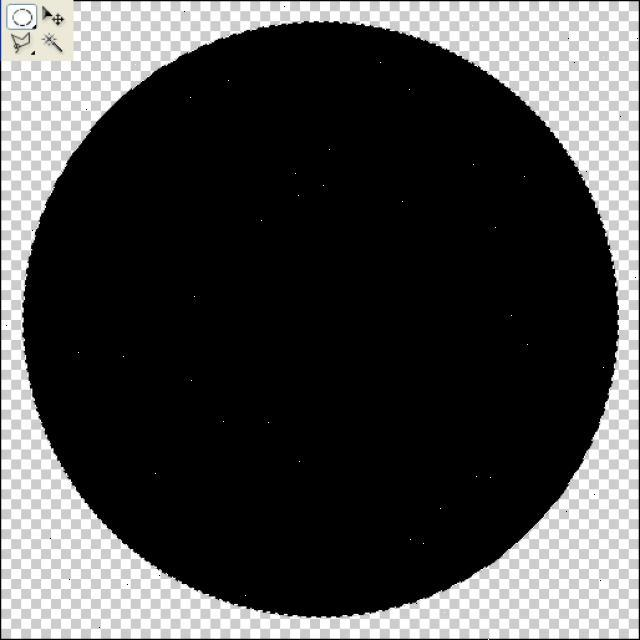Circle: (21, 20, 622, 622)
